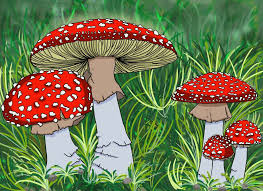Amanita muscaria: (28, 15, 179, 167), (0, 68, 93, 167), (174, 67, 257, 176), (222, 118, 262, 175), (198, 133, 233, 179)
